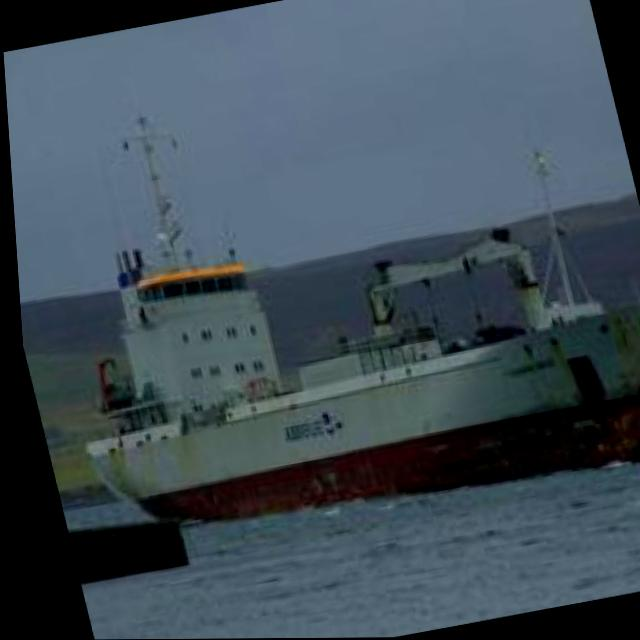ship2: (79, 113, 640, 526)
